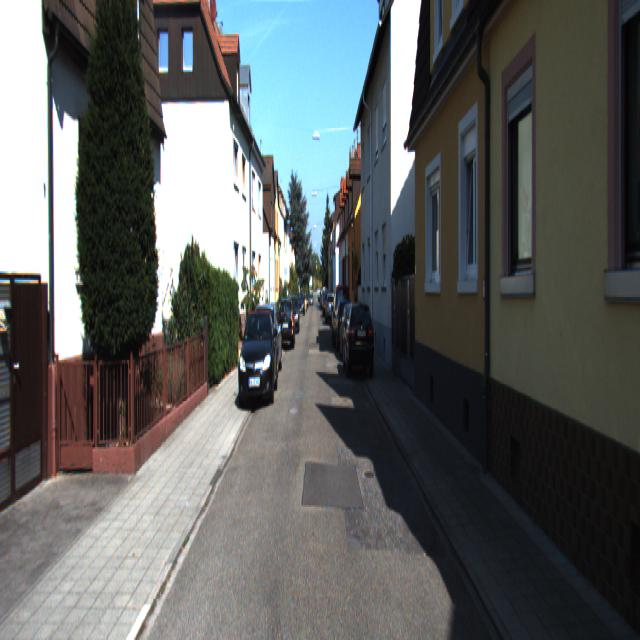Car: (238, 306, 277, 406), (343, 300, 376, 384), (278, 295, 296, 348)
